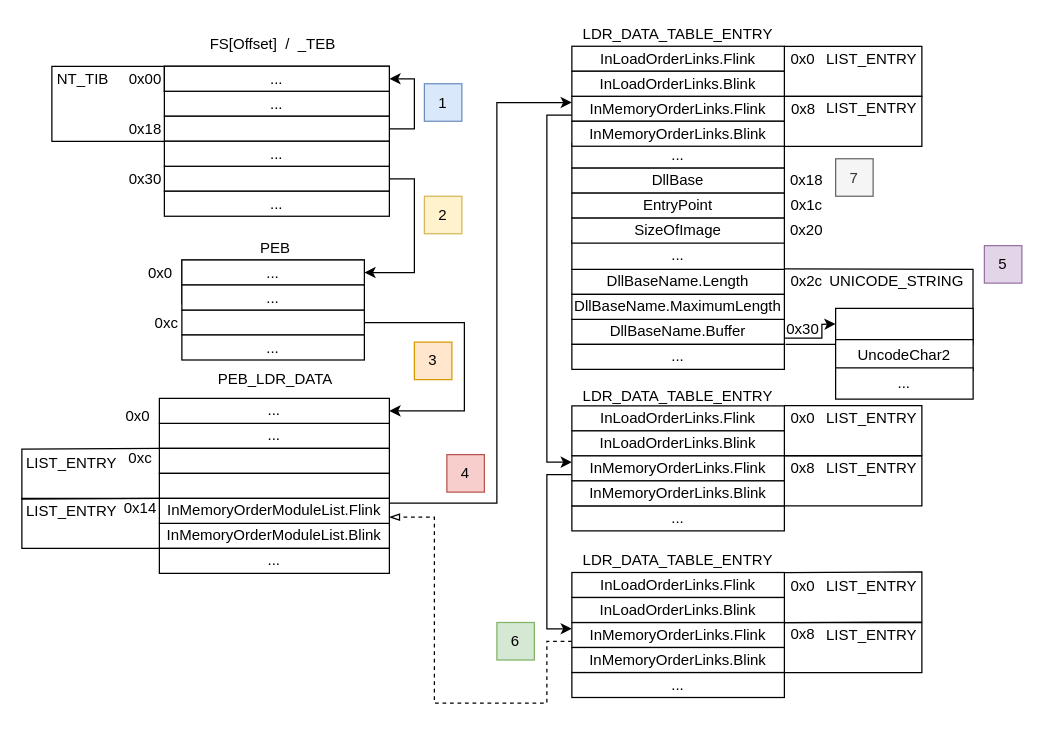
The diagram is 1044 pixels wide and 735 high, and some of its shapes have lost their labels. The centre of each missing label's shape, as x and y in pixels:
InLoadOrderModuleList.Blink: (273,485)
InLoadOrderModuleList.Flink: (273,460)
PEB.Ldr: (272,322)
ProcessEnvironmentBlock: (276,178)
Self: (276,128)
UnicodeChar1: (903,323)
